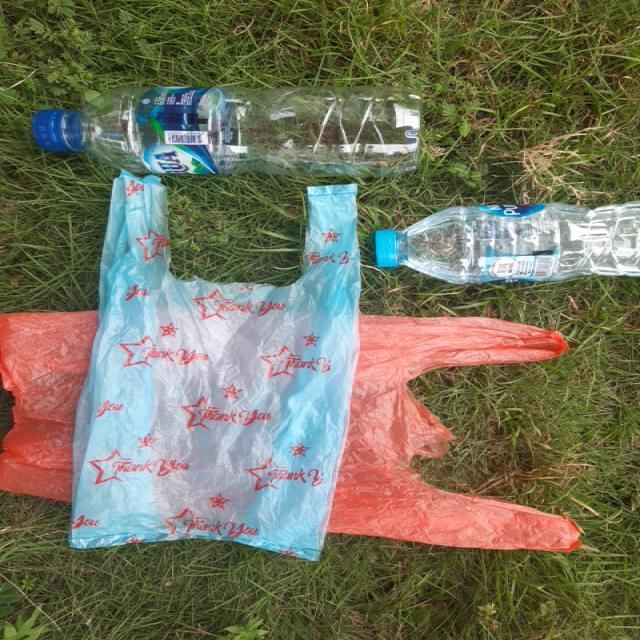Single-layer Plastic: (70, 171, 360, 560), (328, 315, 580, 551), (0, 313, 96, 501)
